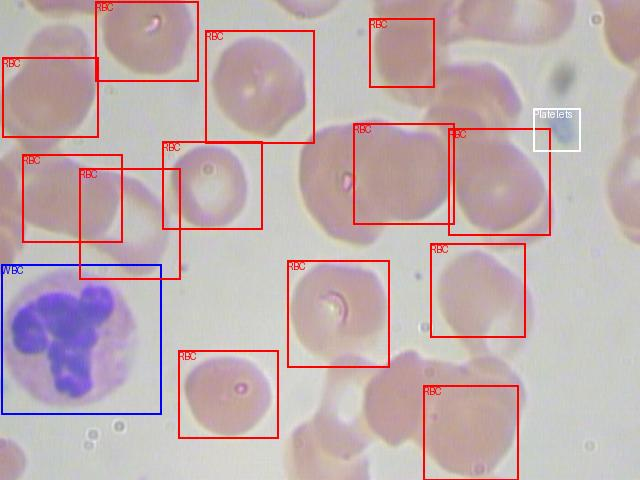Platelets: (533, 108, 580, 151)
RBC: (205, 30, 314, 143), (79, 168, 180, 279), (287, 260, 389, 367), (448, 128, 550, 235), (353, 123, 454, 224), (423, 385, 518, 480), (430, 243, 525, 337), (178, 350, 278, 438), (162, 141, 262, 229), (22, 154, 122, 242), (95, 1, 198, 81), (2, 57, 98, 137), (369, 18, 434, 87)
WBC: (1, 264, 161, 414)
